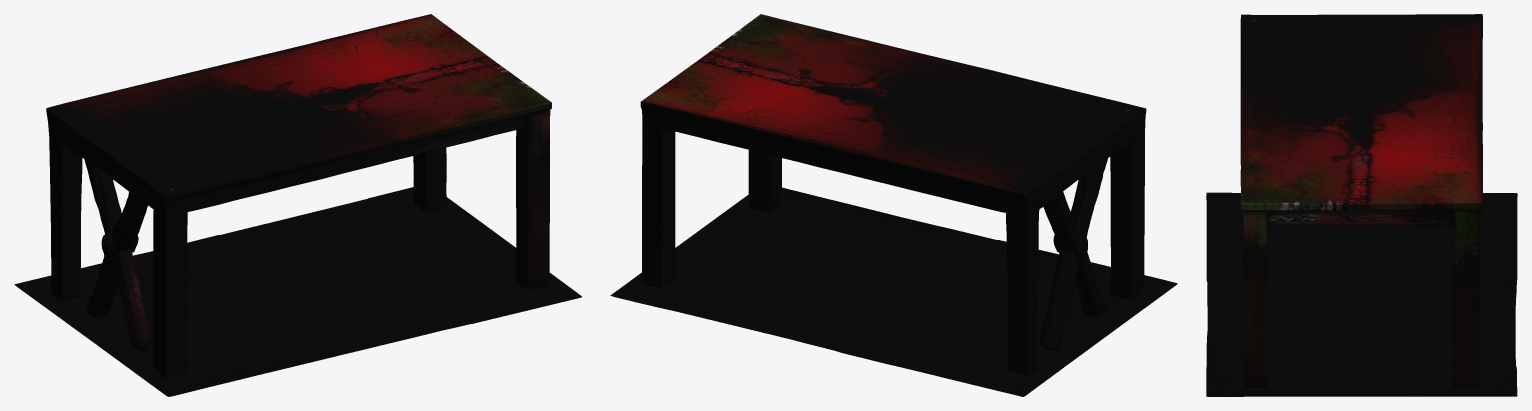
Rendered from table.glb.
The picture shows the model from 3 angles, left to right: view 1: azimuth 30°, elevation 25°; view 2: azimuth 150°, elevation 25°; view 3: azimuth 270°, elevation 25°; orthographic projection.
Parts seen in each view (by area): view 1: world; view 2: world; view 3: world.
Part boxes in pixels (bbox=[...]): world: bbox=[14, 14, 581, 396]; world: bbox=[610, 14, 1177, 396]; world: bbox=[1206, 14, 1517, 396].
Bounding box in the file's own units: 0.7004 × 0.3019 × 0.4534.
1 material, 1 textured.
